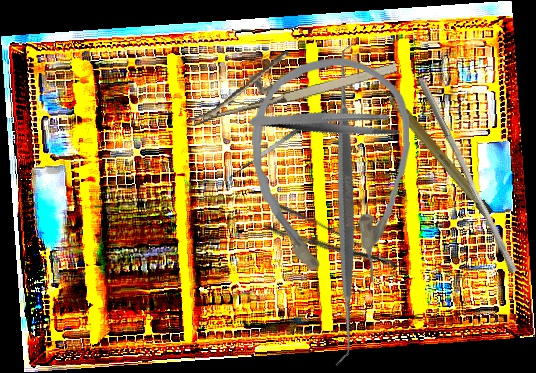Cannula: (249, 55, 415, 290)
Dressing Forceps: (248, 76, 404, 169), (261, 199, 400, 291)
Needle Holder: (180, 27, 400, 127)
Pusher: (408, 74, 525, 276)
Scalpel Handle: (383, 89, 495, 219)
Spatula Surgical: (182, 41, 508, 367), (224, 108, 334, 187)
